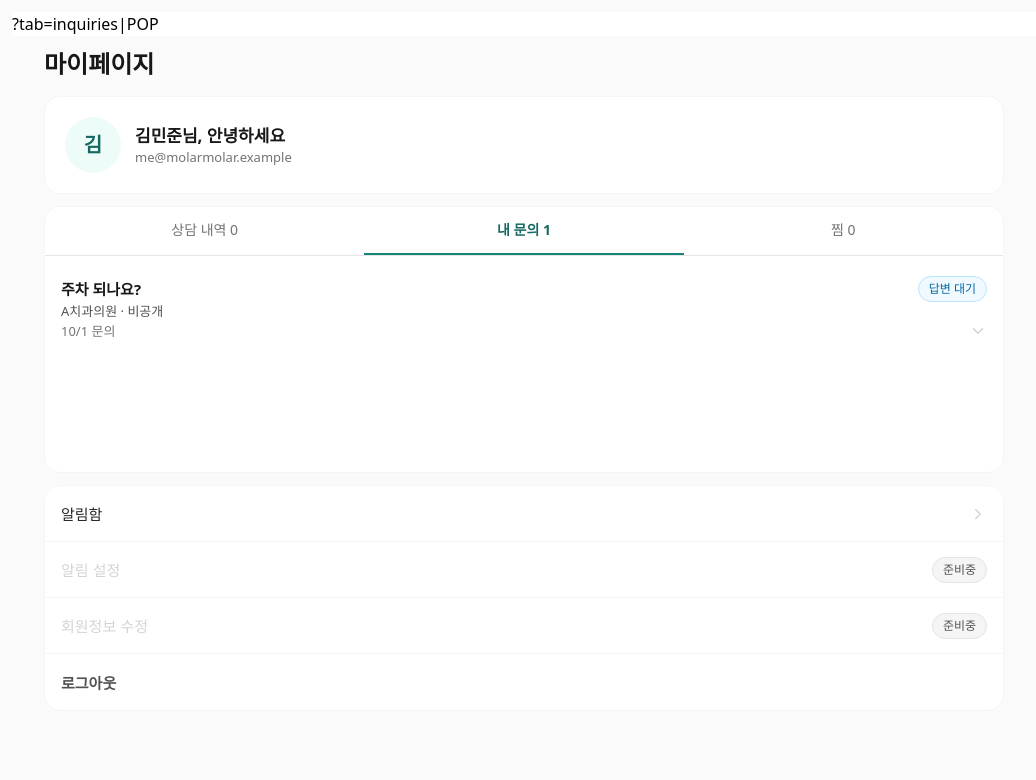
Test: MyPage — 내 문의 탭 › 아직 답이 없으면 기다리는 중이라고 적는다
The image size is (1036, 780).
Click the button "주차 되나요? 답변 대기 A치과의원 · 비공개 10/1 문의": (101,289) [61,260,987,357]
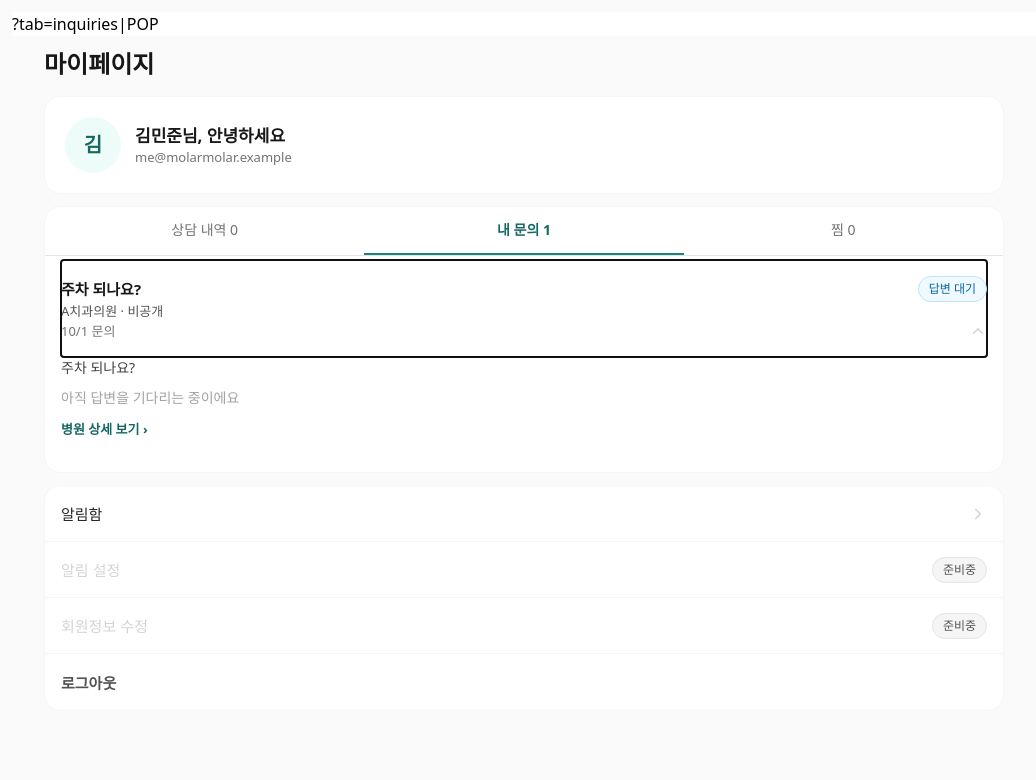
Check: the text "A치과의원 · 비공개" is shown, box [61,302,163,320]
Check: the text "아직 답변을 기다리는 중이에요" is shown, box [61,388,239,407]
